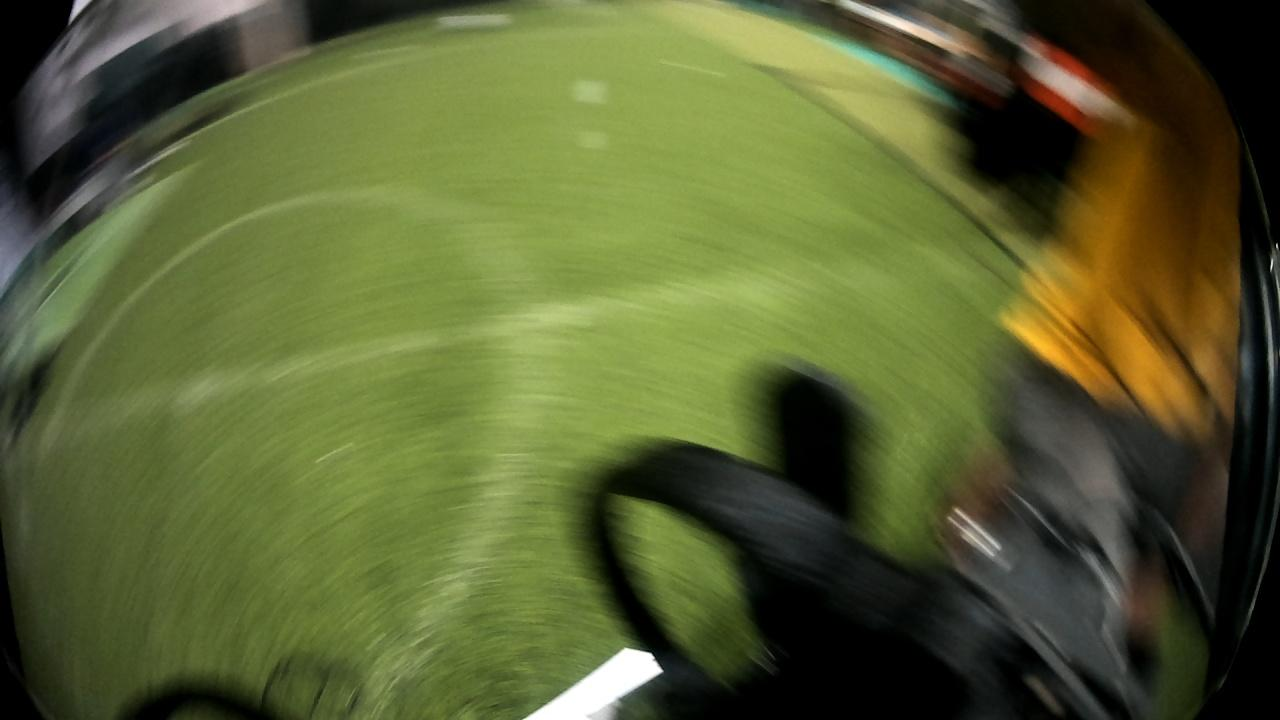ball: (430, 7, 515, 39)
